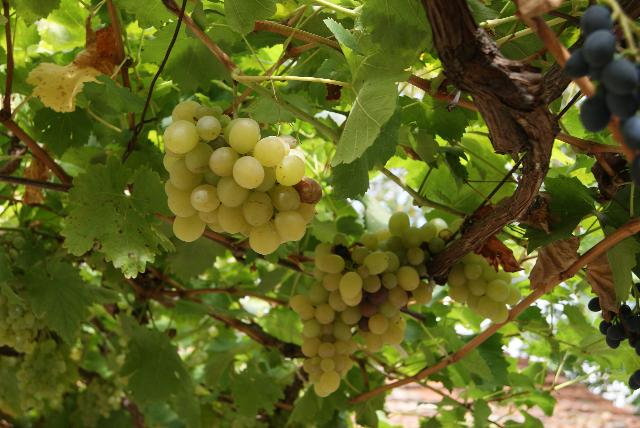grapes: (290, 212, 451, 398), (162, 101, 322, 255), (449, 252, 521, 324)
